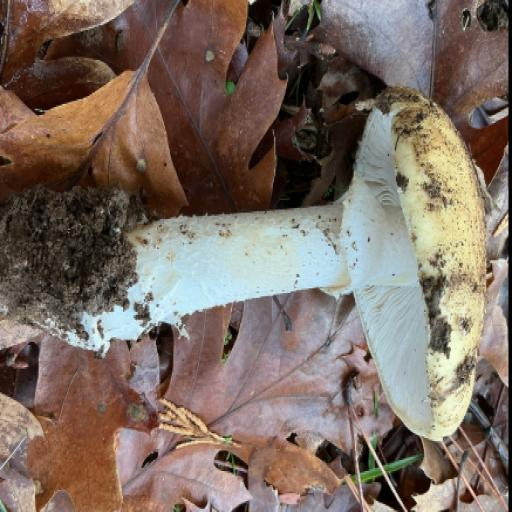mushroom: (335, 87, 490, 443), (85, 199, 354, 342)
